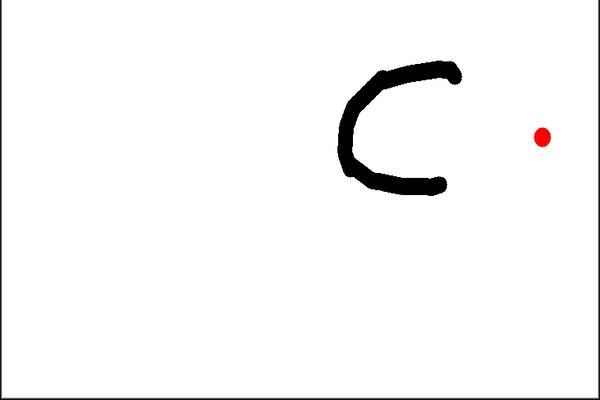C: (333, 55, 466, 199)
